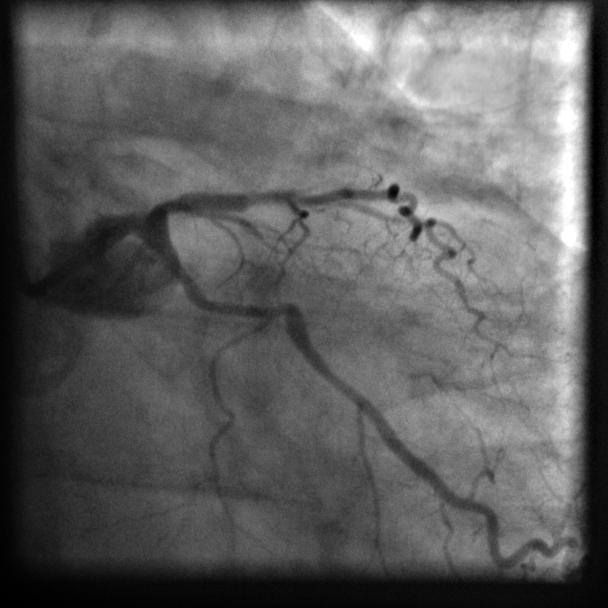Stenosis: (206, 289, 286, 326)
